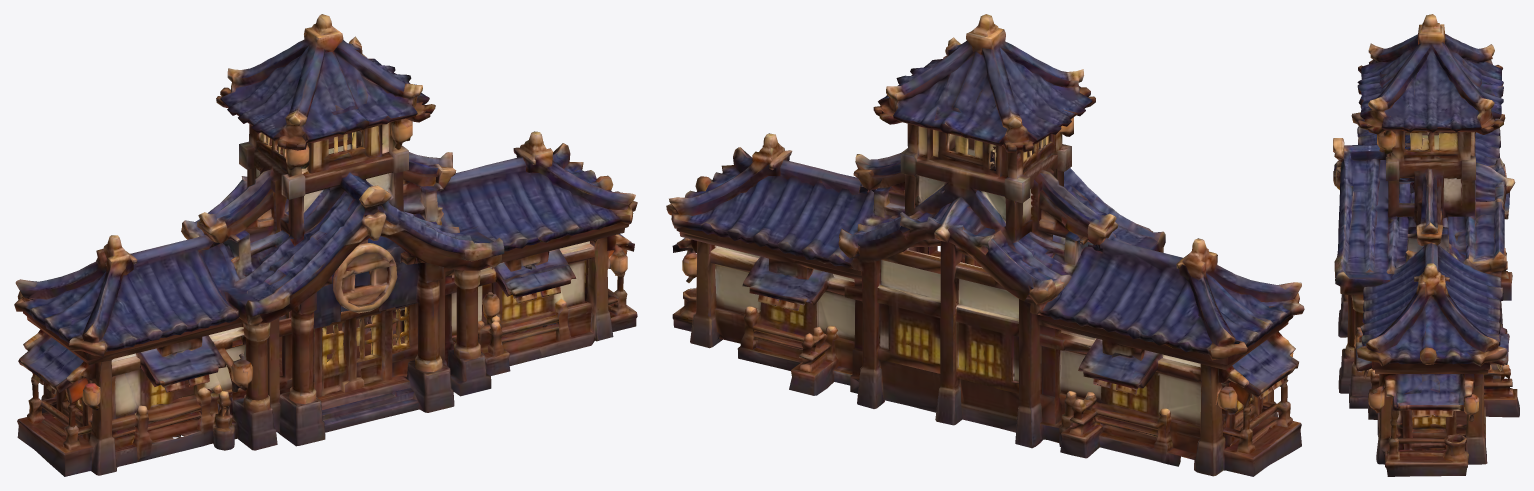
3 views of the same model, side by side, from view 1: azimuth 30°, elevation 25°; view 2: azimuth 150°, elevation 25°; view 3: azimuth 270°, elevation 25° (orthographic). The views are drawn at different scales.
Parts seen in each view (by area): view 1: compact__finance_3__native_mobile; view 2: compact__finance_3__native_mobile; view 3: compact__finance_3__native_mobile.
Part boxes in pixels (x1=…): compact__finance_3__native_mobile: x1=14, y1=14, x2=637, y2=476; compact__finance_3__native_mobile: x1=666, y1=14, x2=1304, y2=476; compact__finance_3__native_mobile: x1=1333, y1=14, x2=1519, y2=476.
Bounding box in the file's own units: 1 × 0.6218 × 0.3062.
Materials: 1 (1 with a texture image).
